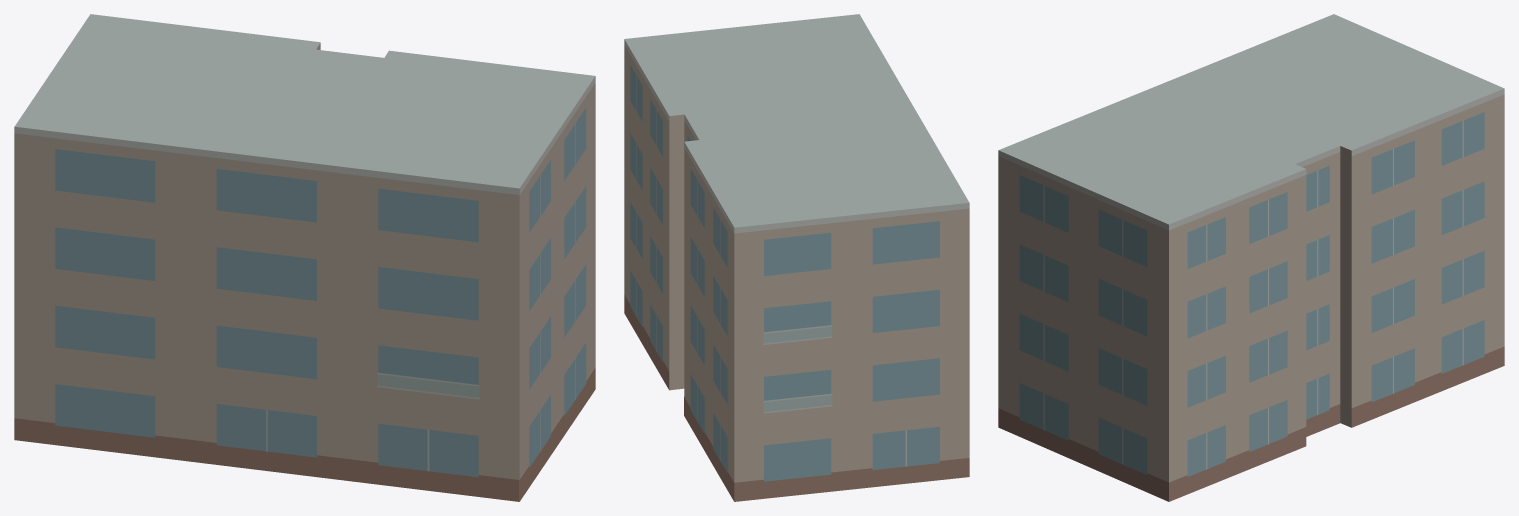
Rendered from survey-upis-32710086.glb.
3 renders of one model, left to right at view 1: azimuth 30°, elevation 25°; view 2: azimuth 150°, elevation 25°; view 3: azimuth 270°, elevation 25°, orthographic. The views are drawn at different scales.
Visible parts, largest first — view 1: survey-upis-32710086.tmp; view 2: survey-upis-32710086.tmp; view 3: survey-upis-32710086.tmp.
Boxes of the visible parts, x1=… form: survey-upis-32710086.tmp: x1=14, y1=14, x2=595, y2=501; survey-upis-32710086.tmp: x1=624, y1=14, x2=969, y2=501; survey-upis-32710086.tmp: x1=998, y1=14, x2=1504, y2=501.
Size of the model in its own units: 18.83 by 11.55 by 19.12.
